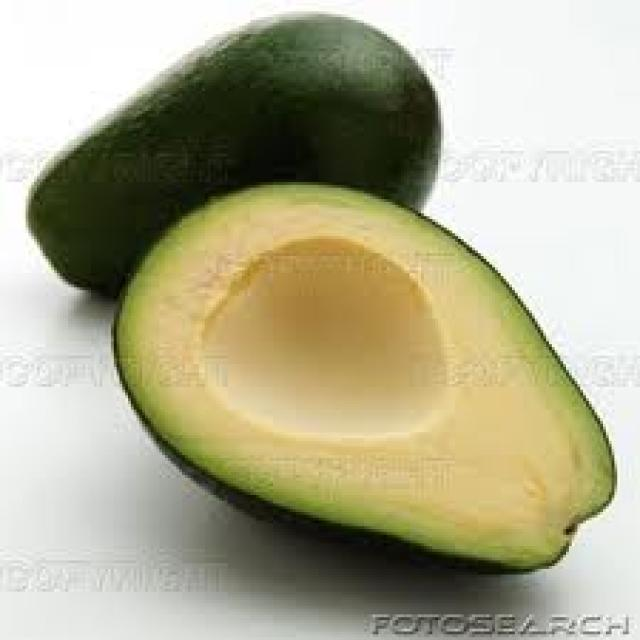avocado: (20, 3, 617, 569)
